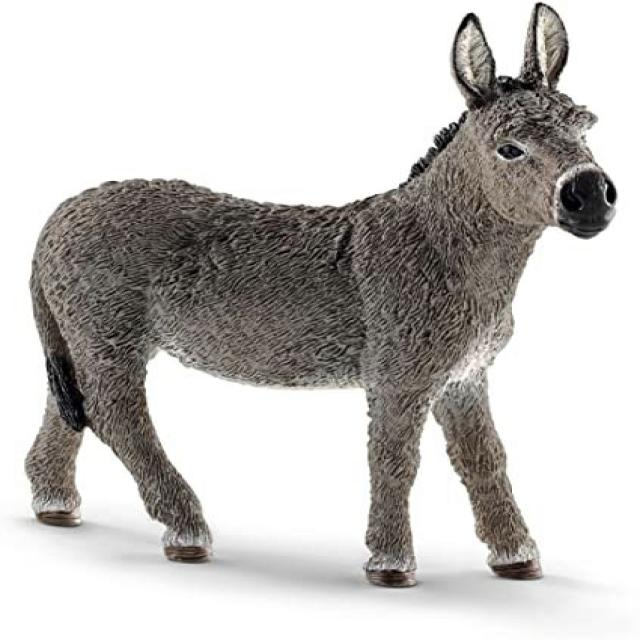donkey: (27, 4, 617, 586)
